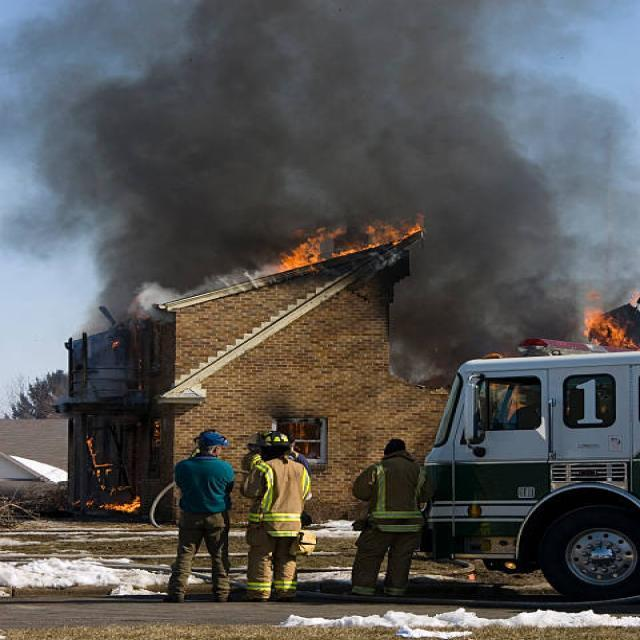Fire: (271, 209, 428, 257), (575, 298, 629, 342)
Smoke: (360, 4, 640, 312), (0, 0, 291, 252), (230, 0, 450, 216)
